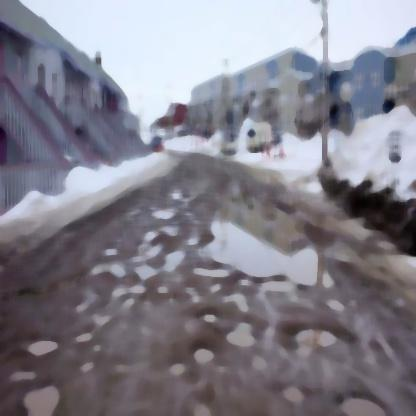Potholes: (212, 198, 323, 286), (276, 306, 346, 358), (339, 368, 392, 415), (22, 372, 74, 415), (26, 324, 60, 366), (197, 336, 216, 372), (224, 326, 253, 348)
